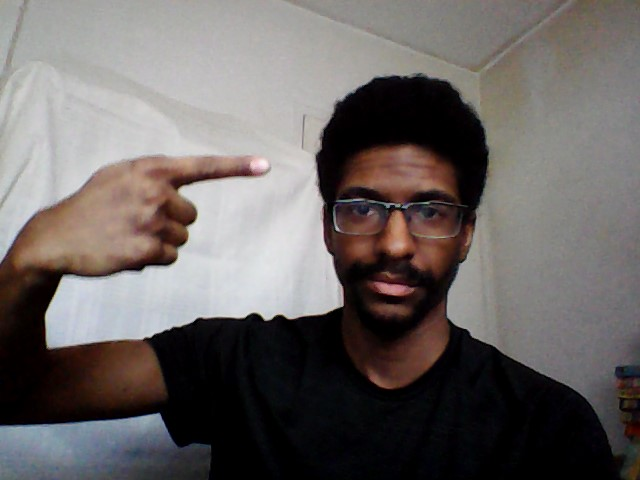g: (41, 147, 276, 283)
